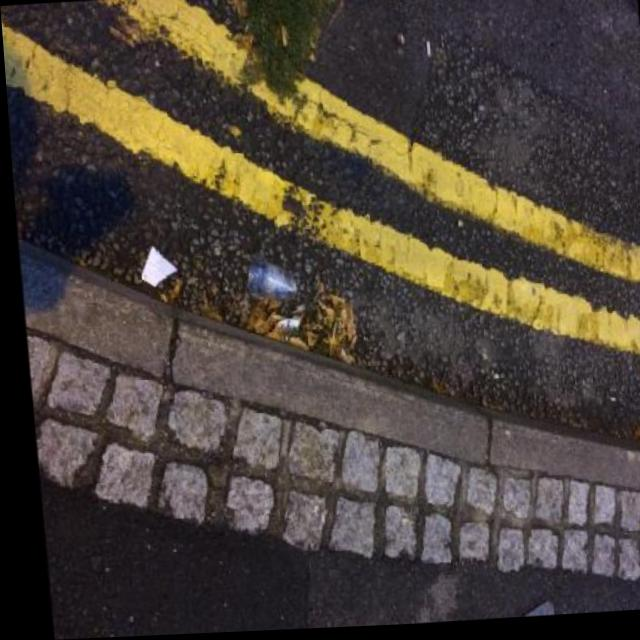paper: (134, 243, 176, 288), (274, 317, 300, 334)
plastic: (243, 249, 297, 303)
